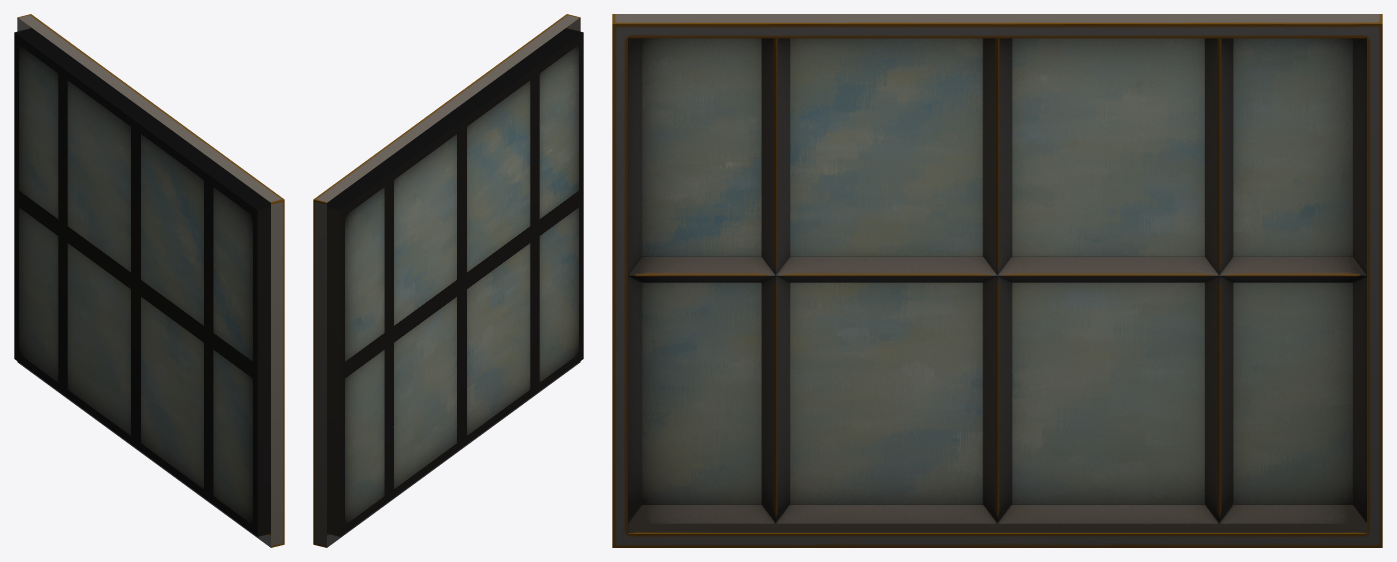
File: Cela_Janela.fbx
3 renders of one model, left to right at view 1: azimuth 30°, elevation 25°; view 2: azimuth 150°, elevation 25°; view 3: azimuth 270°, elevation 25°, orthographic. The views are drawn at different scales.
Visible parts, largest first — view 1: Plane.130; view 2: Plane.130; view 3: Plane.130.
Part boxes in pixels (x1=…): Plane.130: x1=14, y1=14, x2=284, y2=547; Plane.130: x1=313, y1=14, x2=583, y2=547; Plane.130: x1=612, y1=14, x2=1382, y2=547.
Bounding box in the file's own units: 5.63 × 84.35 × 112.
